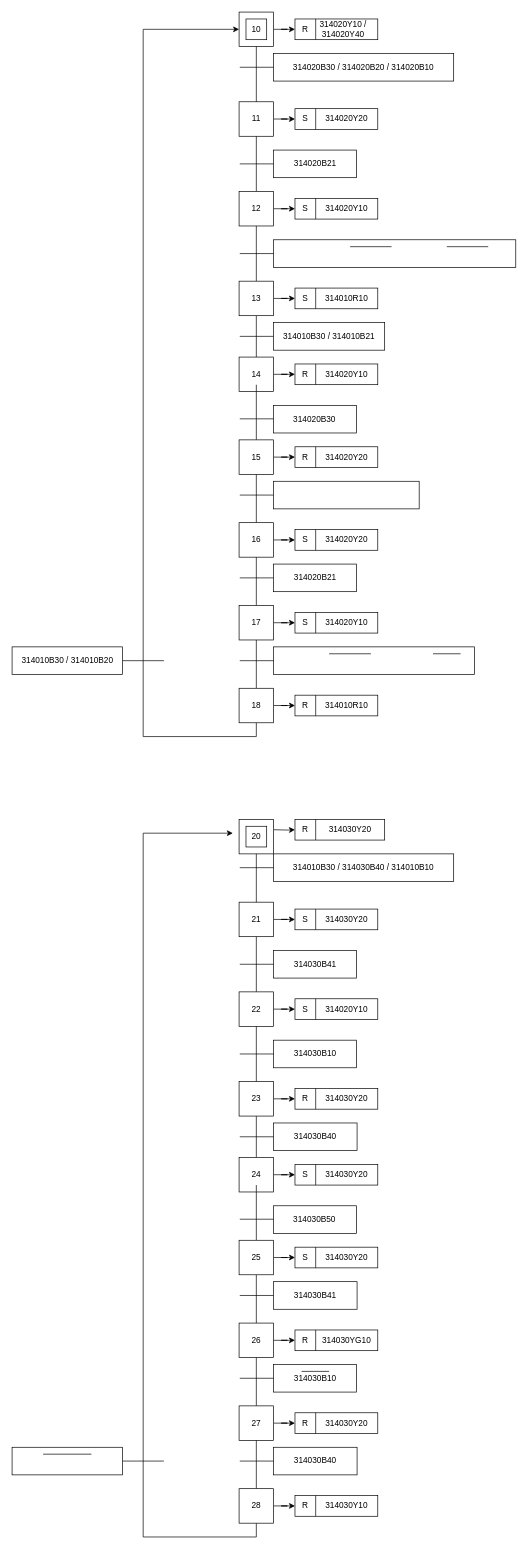
Image size: 528x1555. Some labels were removed from this diagram. The shapes that lost their labels are listed below. From the top down, each one's centre as x and y in pixels, then its label:
At point 394,253: "314020B31 / 314020B10 / 314010B31 / 314010B30".
At point 346,495: "314020B20 / 314020B10".
At point 373,660: "314020B31 / 314020B10 / 314020B21 / 314010B30".
At point 66,1461: "314010B10".
